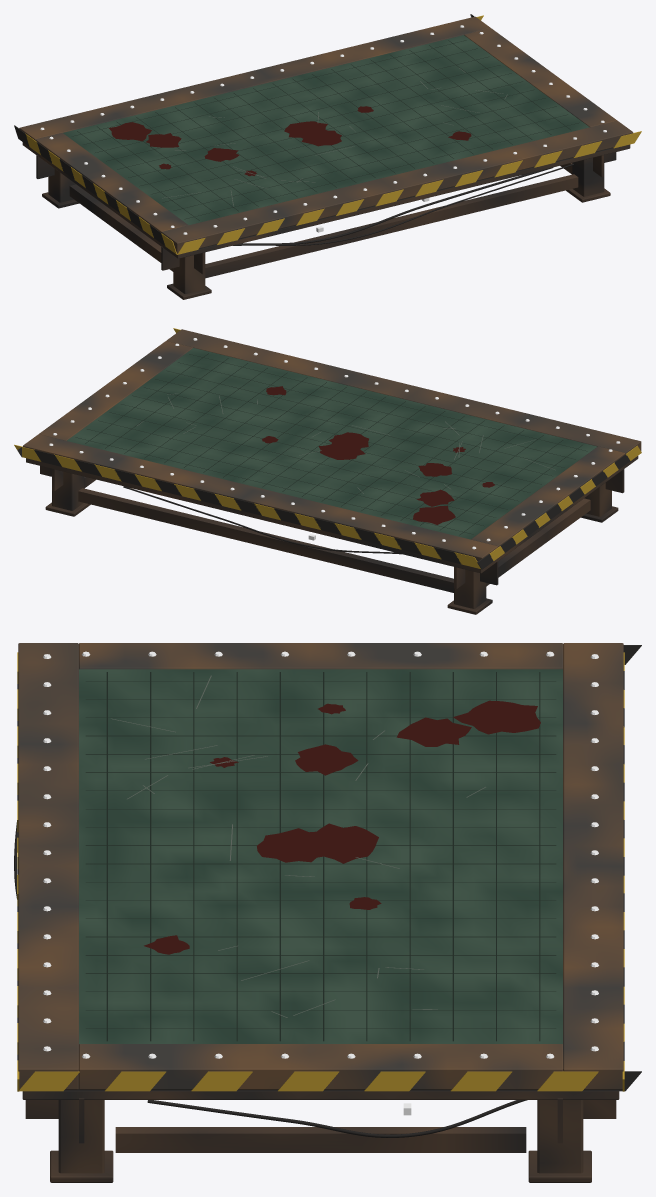
File: gaming_table.glb
3 views of the same model, one above another, from view 1: azimuth 30°, elevation 25°; view 2: azimuth 150°, elevation 25°; view 3: azimuth 270°, elevation 25° (orthographic). The views are drawn at different scales.
Parts seen in each view (by area): view 1: FeltPanel, FrameFront, FrameBack, FeltGrid, BraceX0, HazardYellow, FrameLeft, FrameRight, UnderFrame, FeltStains, BraceY0, HazardBlack (+6 smaller); view 2: FeltPanel, FrameBack, FrameFront, FeltGrid, BraceX1, HazardYellow, FrameLeft, HazardBlack, FrameRight, UnderFrame, FeltStains, BraceY0 (+5 smaller); view 3: FeltPanel, FrameBack, FrameFront, FrameRight, FeltGrid, FrameLeft, BraceY1, FeltStains, HazardYellow, UnderFrame, Leg1, Leg3 (+6 smaller).
Boxes of the visible parts, box(x1,y1,x2,y2) form: FeltPanel: box(63, 35, 589, 225); FrameFront: box(161, 120, 633, 253); FrameBack: box(19, 16, 490, 139); FeltGrid: box(72, 40, 579, 220); BraceX0: box(205, 174, 578, 278); HazardYellow: box(25, 15, 641, 254); FrameLeft: box(35, 133, 187, 232); FrameRight: box(464, 28, 616, 127); UnderFrame: box(22, 142, 630, 258); FeltStains: box(109, 106, 471, 176); BraceY0: box(69, 184, 173, 271); HazardBlack: box(14, 14, 613, 249); FeltPanel: box(67, 348, 597, 539); FrameBack: box(23, 434, 497, 561); FrameFront: box(166, 329, 641, 453); FeltGrid: box(75, 353, 587, 535); BraceX1: box(78, 488, 453, 592); HazardYellow: box(14, 328, 641, 568); FrameLeft: box(471, 446, 625, 547); HazardBlack: box(17, 447, 630, 569); FrameRight: box(39, 341, 192, 440); UnderFrame: box(26, 456, 638, 573); FeltStains: box(262, 386, 494, 524); BraceY0: box(486, 498, 590, 586); FeltPanel: box(79, 669, 562, 1043); FrameBack: box(563, 643, 623, 1089); FrameFront: box(18, 643, 78, 1089); FrameRight: box(79, 1044, 562, 1089); FeltGrid: box(85, 672, 556, 1041); FrameLeft: box(79, 643, 562, 669); BraceY1: box(115, 1127, 526, 1152); FeltStains: box(144, 700, 540, 954); HazardYellow: box(17, 652, 624, 1091); UnderFrame: box(22, 1091, 619, 1099); Leg1: box(58, 1100, 104, 1173); Leg3: box(537, 1100, 583, 1173).
Size of the model in its own units: 7.13 by 0.992 by 4.36.
